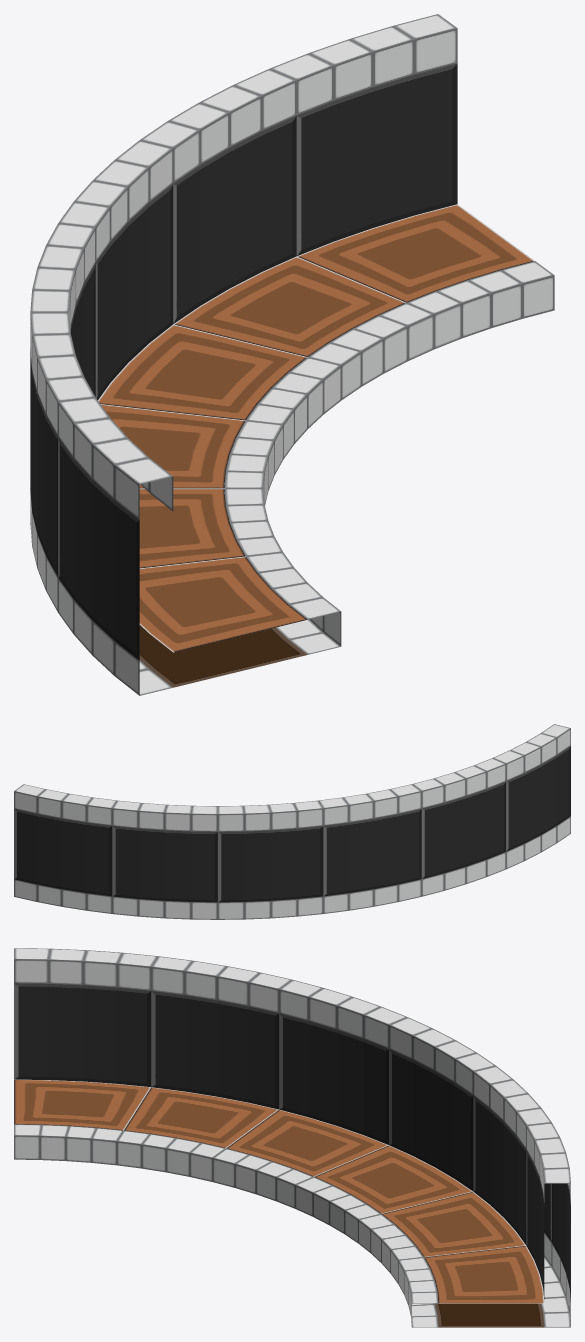
The model's file is StormChaserBMCurve2.obj.
3 views of the same model, one above another, from view 1: azimuth 30°, elevation 25°; view 2: azimuth 150°, elevation 25°; view 3: azimuth 270°, elevation 25° (orthographic). The views are drawn at different scales.
Parts seen in each view (by area): view 1: StormChaserBMCurve2; view 2: StormChaserBMCurve2; view 3: StormChaserBMCurve2.
Part boxes in pixels (bbox=[...]): StormChaserBMCurve2: bbox=[30, 14, 554, 695]; StormChaserBMCurve2: bbox=[14, 724, 570, 919]; StormChaserBMCurve2: bbox=[14, 948, 570, 1327].
Bounding box in the file's own units: 10.5 × 3 × 10.5.
